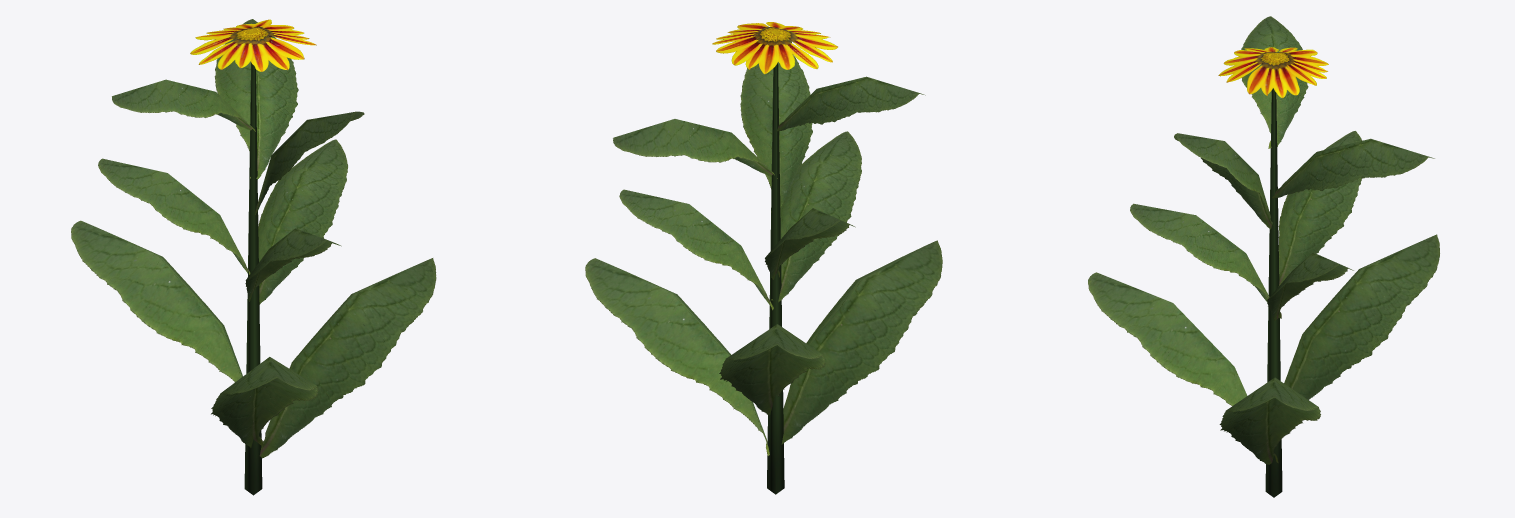
The model's file is flower plant1.FBX.
3 views of the same model, side by side, from view 1: azimuth 30°, elevation 25°; view 2: azimuth 150°, elevation 25°; view 3: azimuth 270°, elevation 25° (orthographic). The views are drawn at different scales.
Parts seen in each view (by area): view 1: Cylinder001; view 2: Cylinder001; view 3: Cylinder001.
Part boxes in pixels (x1=…): Cylinder001: x1=71, y1=19, x2=436, y2=495; Cylinder001: x1=585, y1=22, x2=942, y2=494; Cylinder001: x1=1088, y1=16, x2=1439, y2=497.
Bounding box in the file's own units: 3.5 × 4.12 × 3.95.
